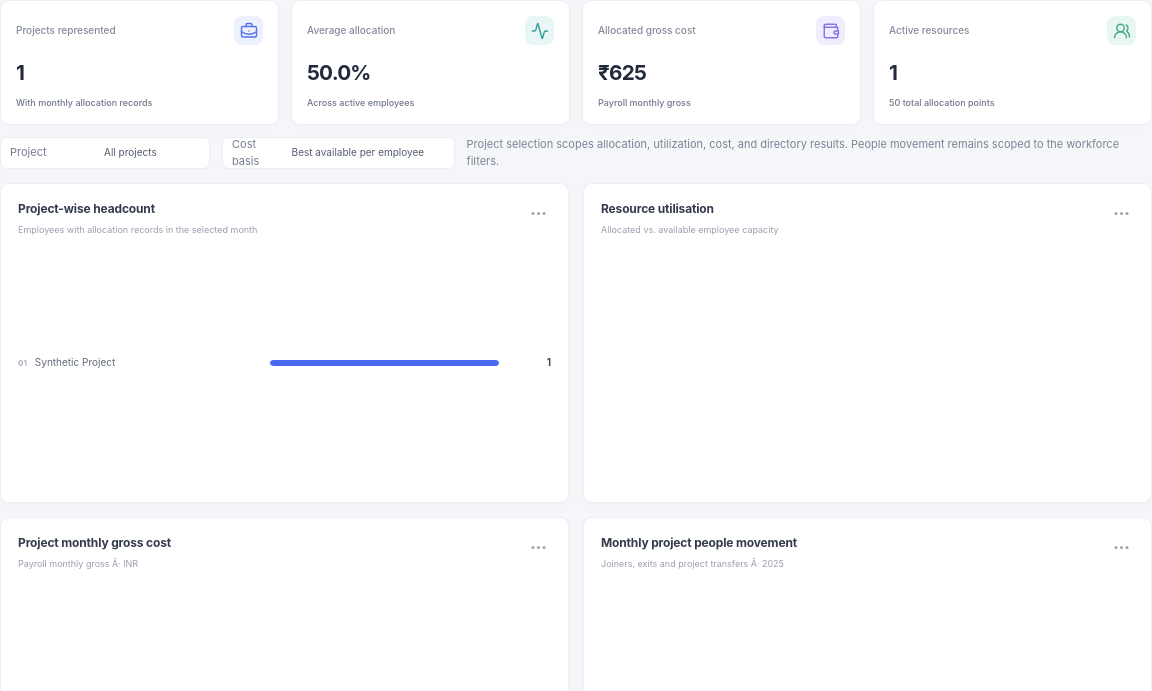
Scenario: Project allocation salary permissions › changes imported project costs and employee gross basis from the selected cost source
Select "Allocation row monthly gross" in the dropdown named "Project cost basis": x=368, y=152 [292,145,445,160]
(page scrolled)
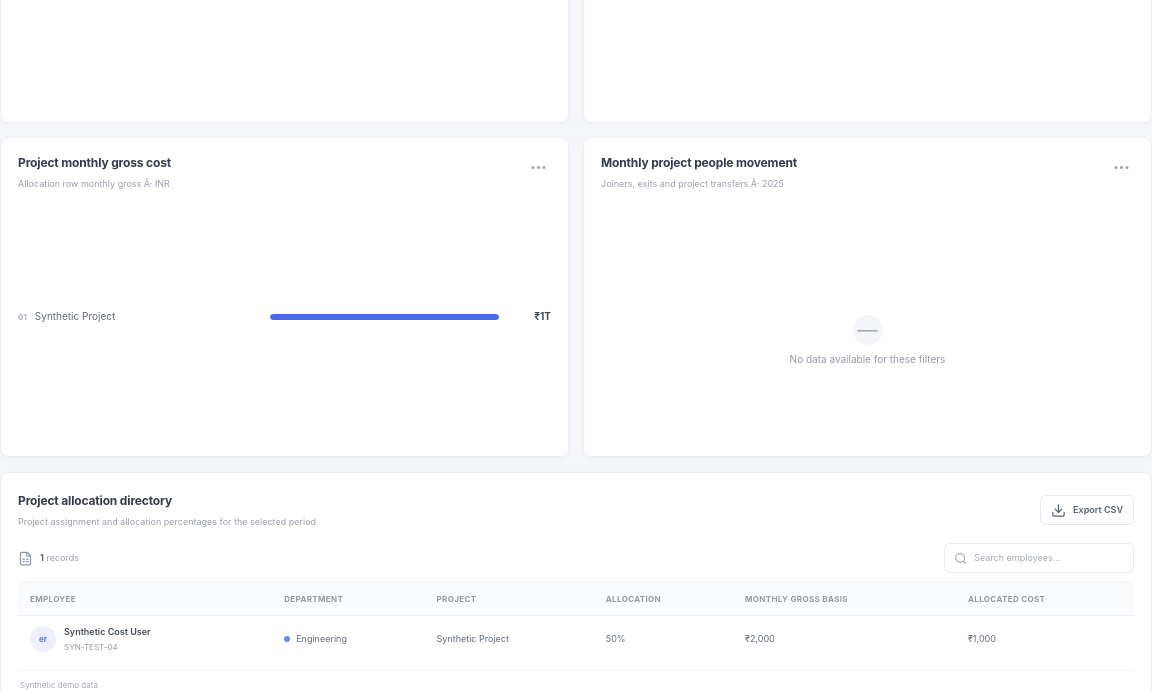
Expected: the text "₹2,000" is shown, [733,616,956,662]
Expected: the text "₹1,000" is shown, [956,616,1134,662]
